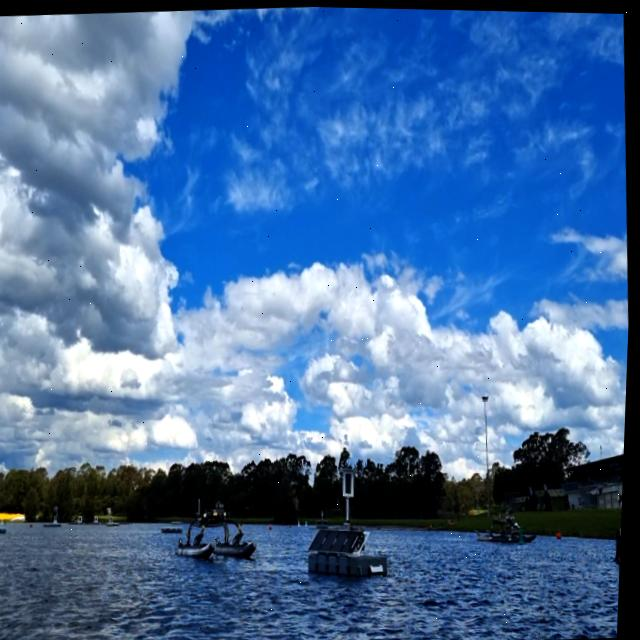led: (347, 471, 357, 493)
